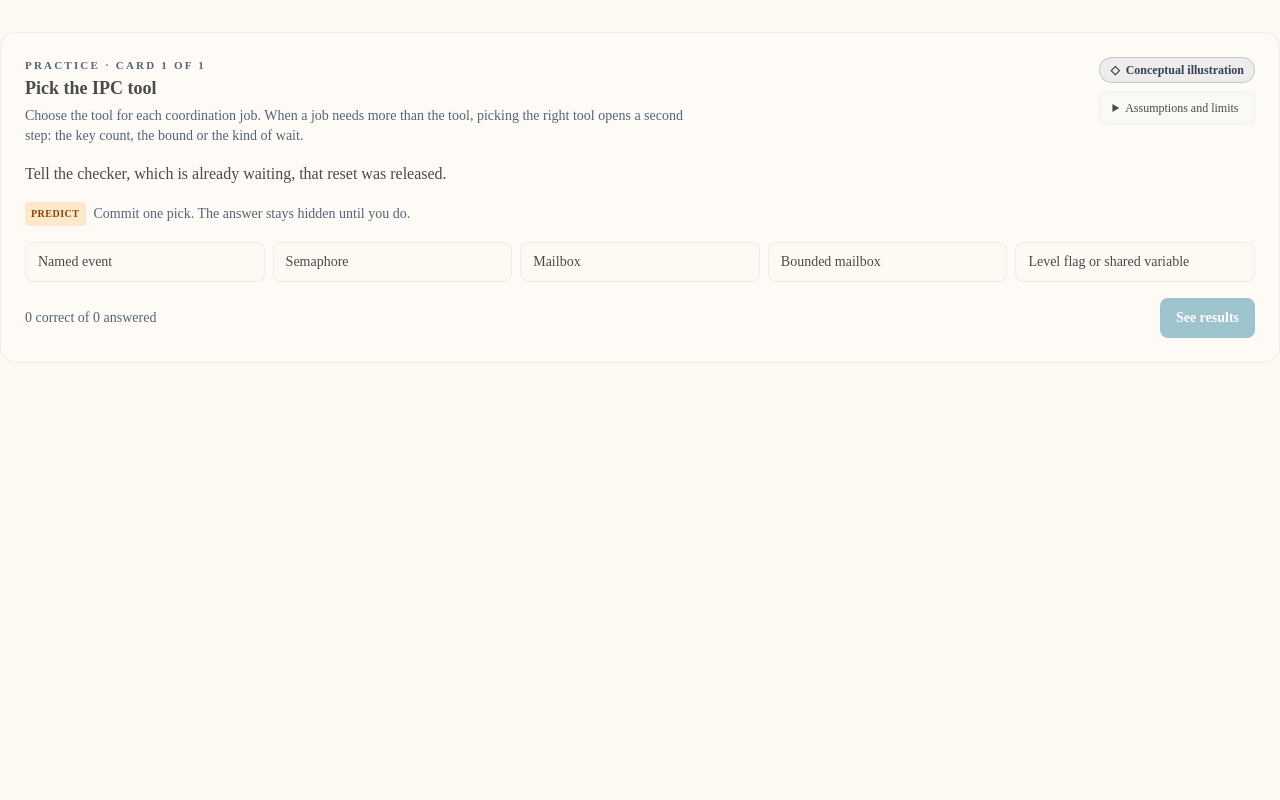
Test: ScenarioSorter: predict, then reveal › marks the learner's own pick for every verdict, so two ◐ options with the same text stay apart
Click the button with test id "sorter-option-mailbox" at point(640, 262), box [520, 242, 760, 282]
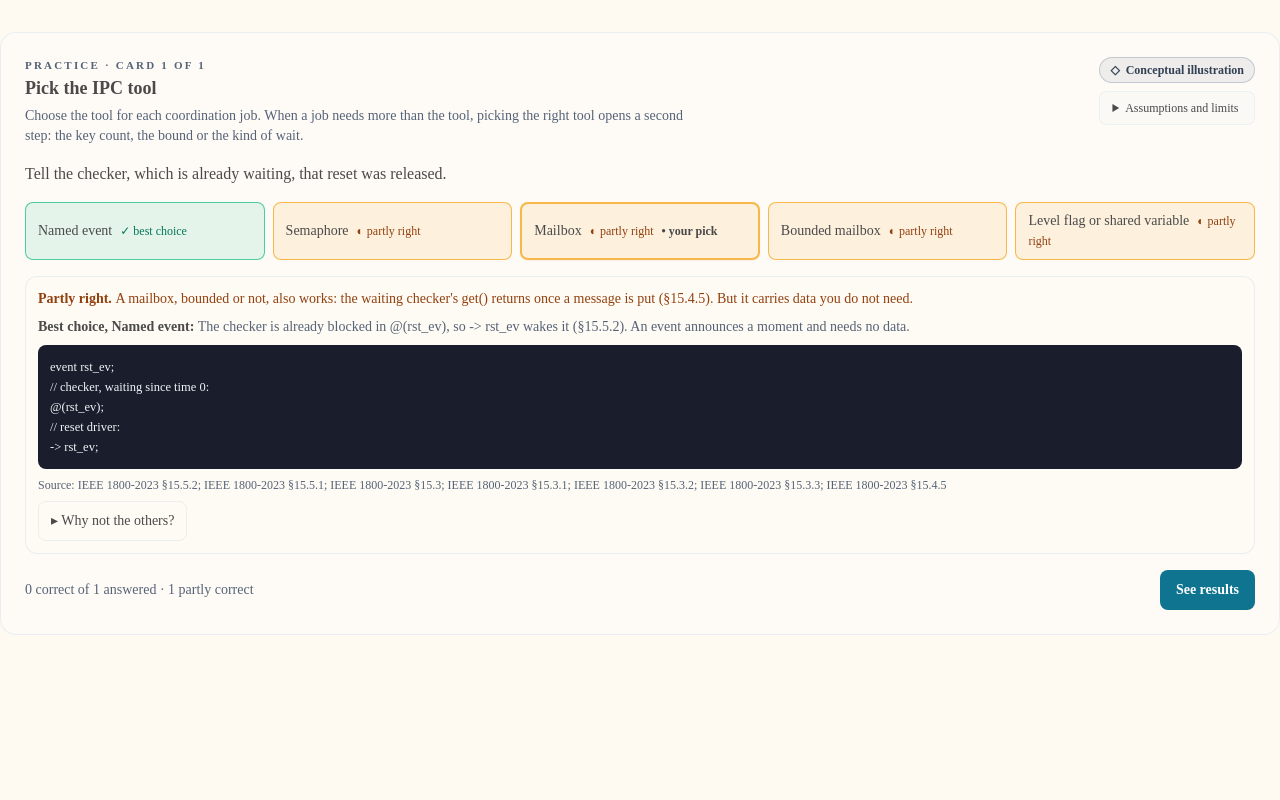
expect the button with test id "sorter-option-mailbox" shows "◐ partly right• your pick": met, box [520, 202, 760, 260]
expect the button with test id "sorter-option-bounded-mailbox" shows "◐ partly right": met, box [768, 202, 1007, 260]
expect the text "• your pick" is shown: met, box [662, 224, 718, 238]
